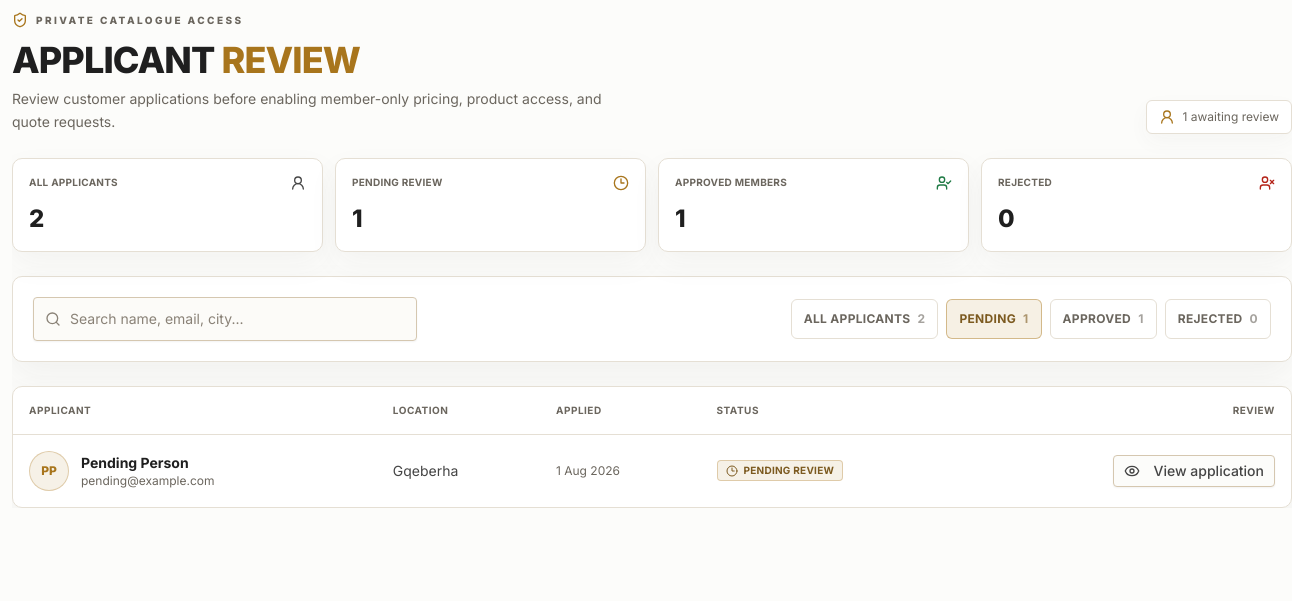
Test: AdminApprovalDashboard › shows an empty result when the search does not match
In the field named "search applicants": (225, 318) [33,296,417,340], type "does-not-exist"
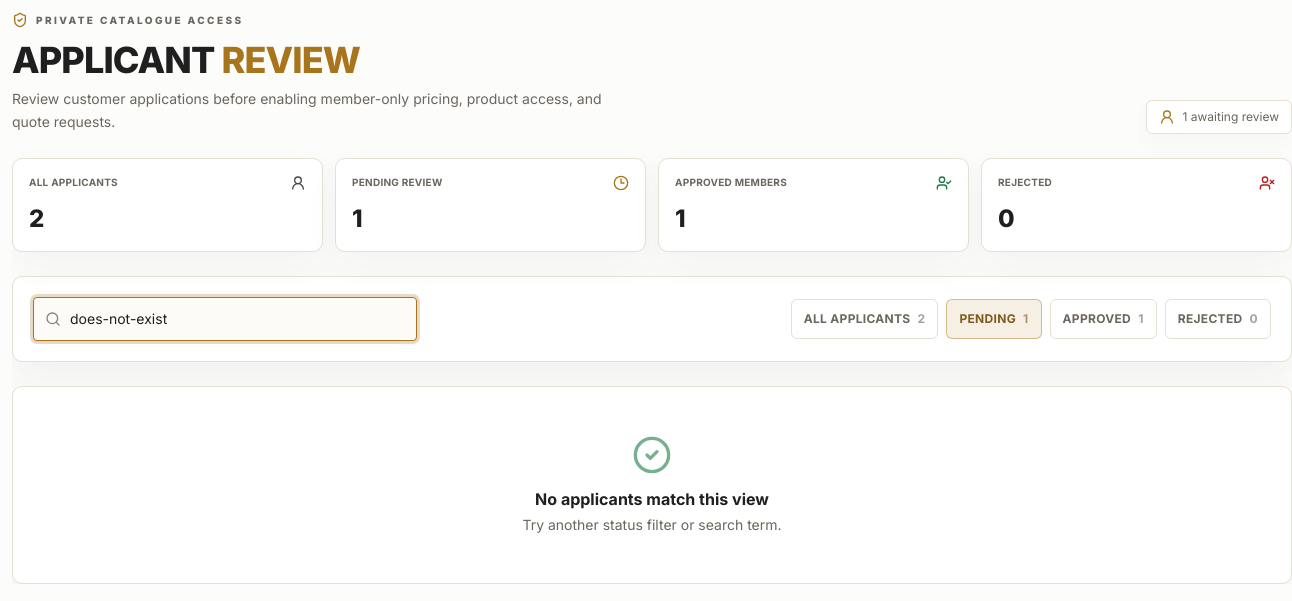
Expected: the text "No applicants match this view" is shown, [535,488,769,508]
